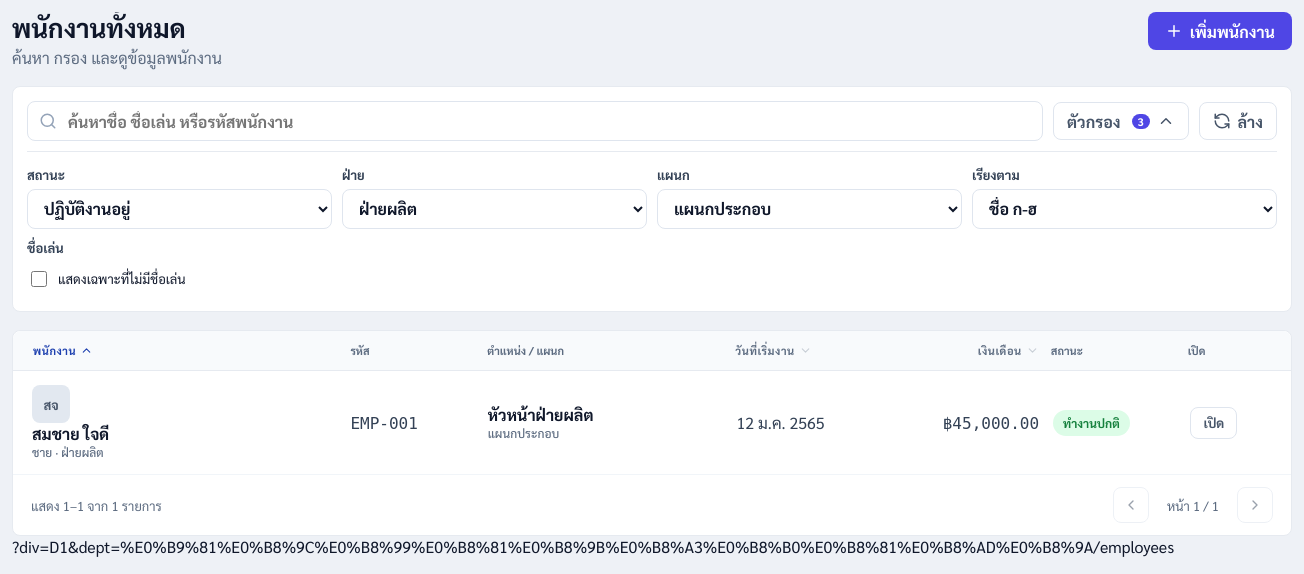
Test: EmployeeListPage division and department params › clears a stale department when the division changes
Select "ฝ่ายบัญชี" in the dropdown labelled "ฝ่าย" at x=494, y=209, box [342,189,647,229]
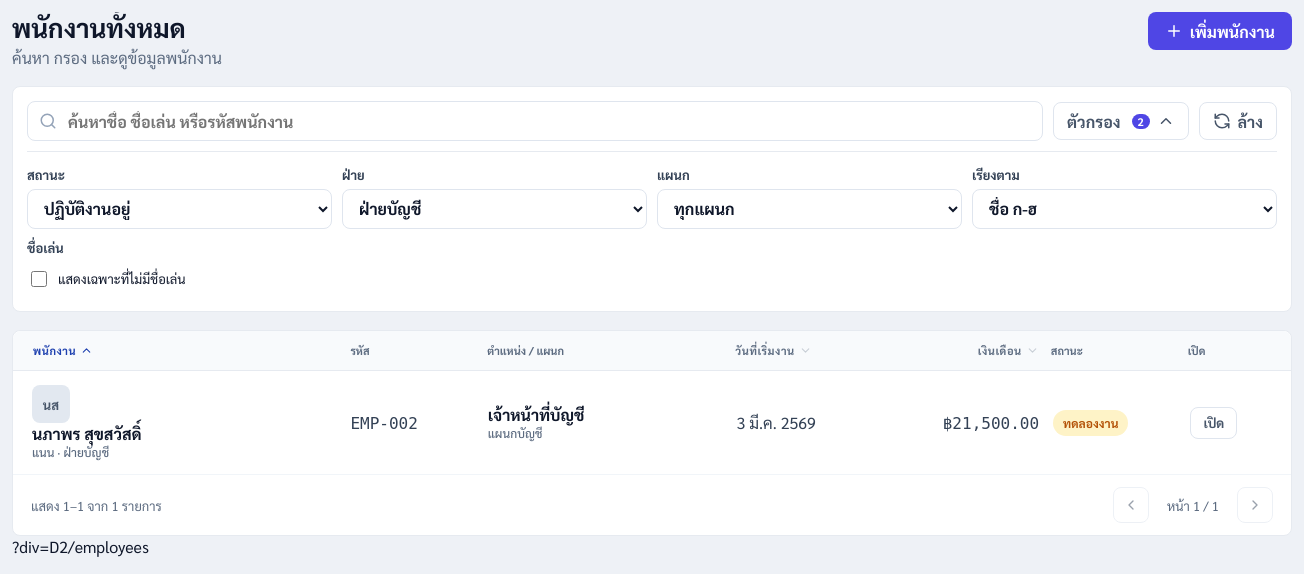
Expected: the text with test id "search-params" shows "div=D2", [12,536,68,557]
Expected: the text with test id "search-params" no longer shows "dept="
